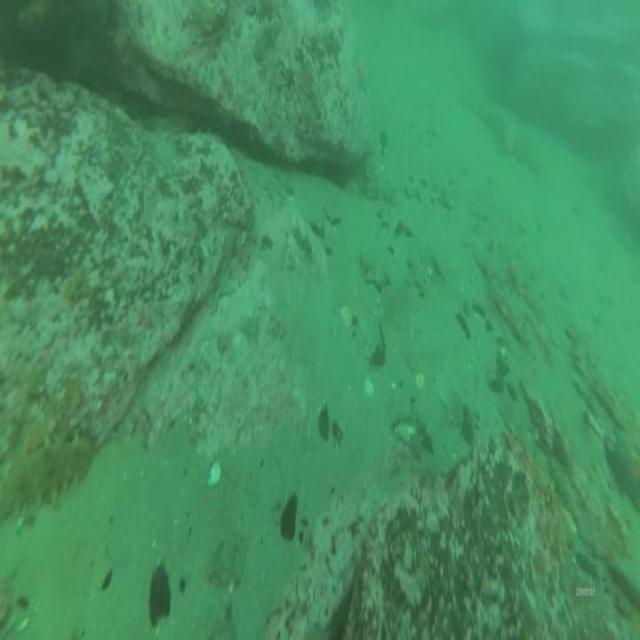holothurian: (1, 438, 94, 518)
